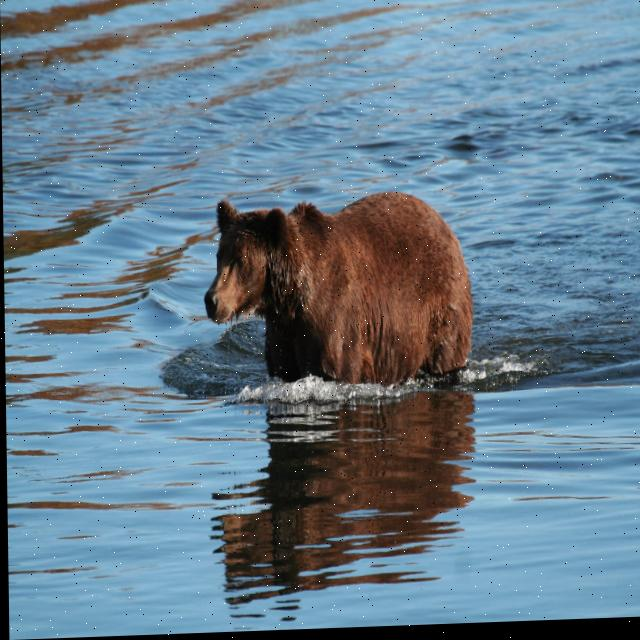bear face: (203, 193, 469, 382)
